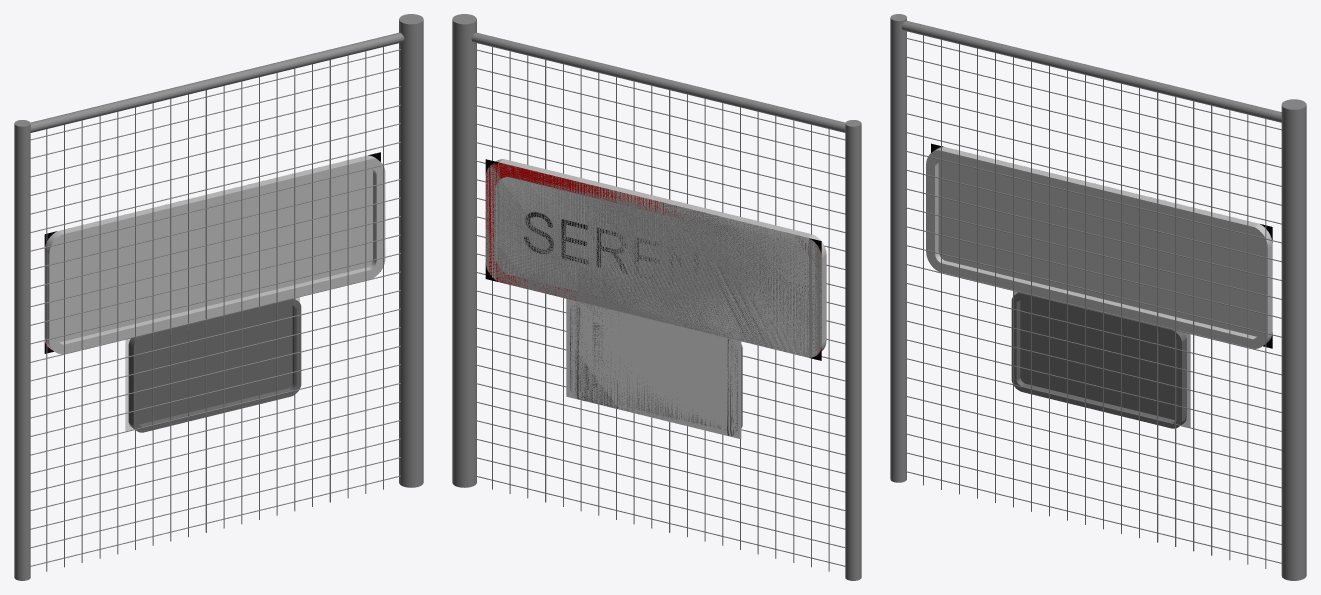
File: grilleenter.dae
3 renders of one model, left to right at view 1: azimuth 30°, elevation 25°; view 2: azimuth 150°, elevation 25°; view 3: azimuth 330°, elevation 25°, orthographic.
Parts seen in each view (by area): view 1: serenitysignal (×2), grillageDoor (×3), twinsignal (×2), grillagepart (×24); view 2: serenitysignal (×2), grillageDoor (×3), serenity, image_0, image_1, grillagepart (×12), twin, twinsignal (×2); view 3: serenitysignal (×2), grillageDoor (×3), twinsignal (×2), grillagepart (×24).
Boxes of the visible parts, bbox=[...] form: serenitysignal (×2): bbox=[44, 155, 385, 354]; grillageDoor (×3): bbox=[14, 14, 423, 580]; twinsignal (×2): bbox=[128, 298, 301, 432]; grillagepart (×24): bbox=[30, 49, 400, 566]; serenitysignal (×2): bbox=[485, 159, 826, 357]; grillageDoor (×3): bbox=[452, 14, 861, 580]; serenity: bbox=[485, 163, 821, 357]; image_0: bbox=[566, 299, 741, 438]; image_1: bbox=[485, 159, 821, 360]; grillagepart (×12): bbox=[475, 49, 845, 566]; twin: bbox=[570, 302, 737, 434]; twinsignal (×2): bbox=[570, 305, 742, 435]; serenitysignal (×2): bbox=[926, 147, 1272, 348]; grillageDoor (×3): bbox=[890, 14, 1306, 580]; twinsignal (×2): bbox=[1011, 292, 1186, 428]; grillagepart (×24): bbox=[905, 37, 1281, 563].
Bounding box in the file's own units: 90.35 × 4.72 × 98.43.
Materials: 5 (1 with a texture image).
